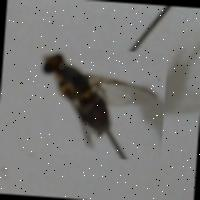Oriental-fruit-fly: (30, 44, 167, 160)
